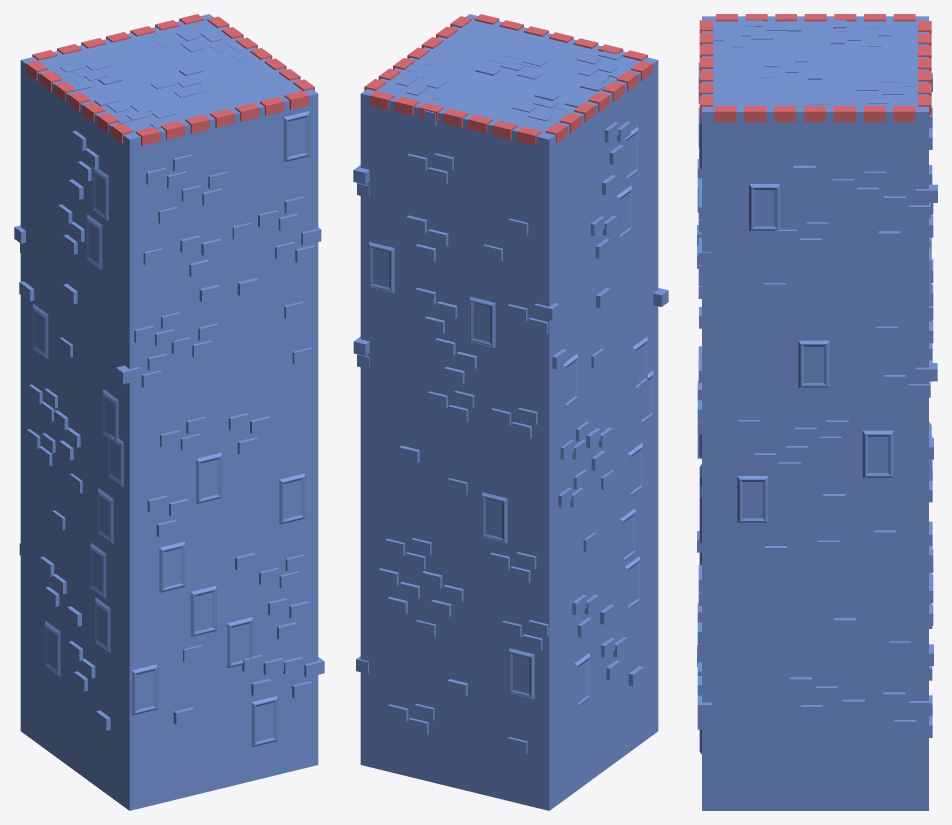
The model's file is Tower Jumper Building Concept v1.2.fbx.
3 renders of one model, left to right at view 1: azimuth 30°, elevation 25°; view 2: azimuth 150°, elevation 25°; view 3: azimuth 270°, elevation 25°, orthographic. The views are drawn at different scales.
Visible parts, largest first — view 1: Cube.006, Cube.016, Cube.015, Cube.017, Cube.014; view 2: Cube.006, Cube.017, Cube.015, Cube.016, Cube.014; view 3: Cube.006, Cube.014, Cube.016, Cube.015, Cube.017.
Part boxes in pixels (bbox=[...]): Cube.006: bbox=[14, 14, 324, 810]; Cube.016: bbox=[135, 90, 309, 145]; Cube.015: bbox=[26, 60, 133, 143]; Cube.017: bbox=[32, 14, 204, 60]; Cube.014: bbox=[207, 16, 314, 91]; Cube.006: bbox=[353, 14, 668, 810]; Cube.017: bbox=[370, 91, 541, 145]; Cube.015: bbox=[545, 61, 652, 143]; Cube.016: bbox=[474, 14, 647, 60]; Cube.014: bbox=[364, 16, 472, 90]; Cube.006: bbox=[697, 16, 937, 810]; Cube.014: bbox=[714, 106, 915, 121]; Cube.016: bbox=[699, 20, 713, 115]; Cube.015: bbox=[716, 14, 915, 21]; Cube.017: bbox=[918, 21, 931, 115].
Bounding box in the file's own units: 1068 × 3408 × 1062.
